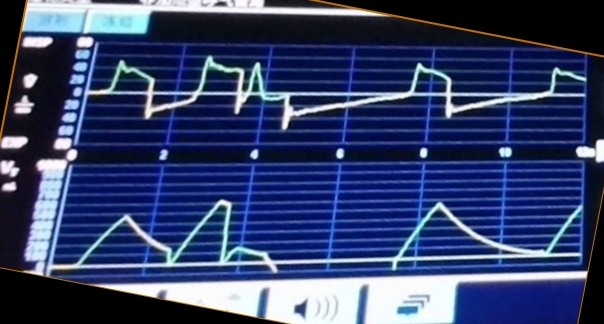Double_Triggering Flow: (93, 57, 587, 132)
Double_Triggering Volume: (69, 195, 579, 270)
